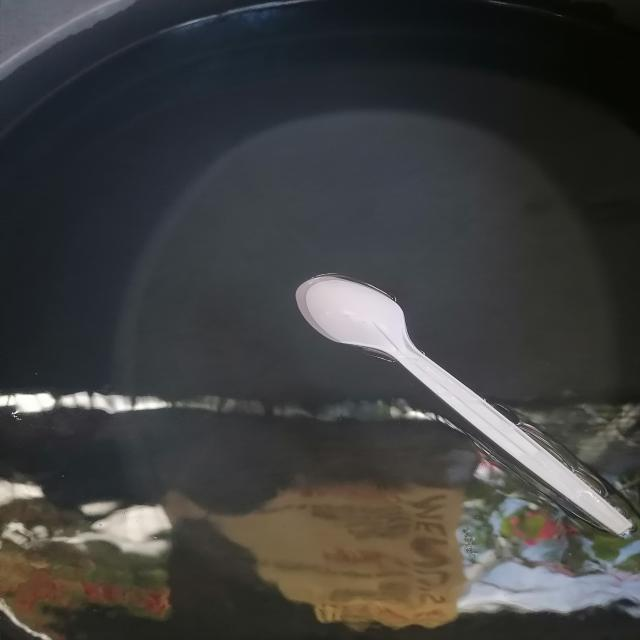Plastic Spoon: (295, 274, 631, 535)
